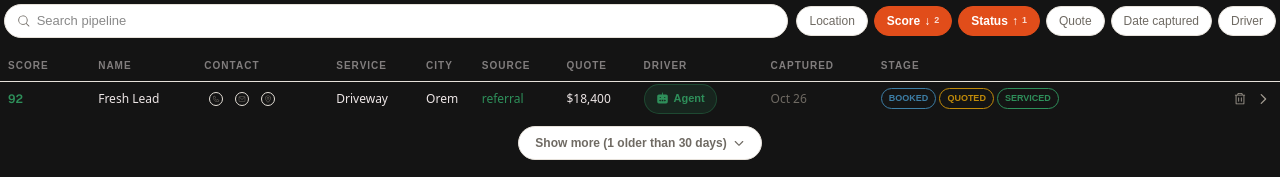
Test case: LeadsTable 30-day window › searches the whole pipeline, not just the visible window
This screenshot has width=1280, height=177.
In the search field labelled "Search pipeline": (406, 21) [37,11,775,30], type "Stale"
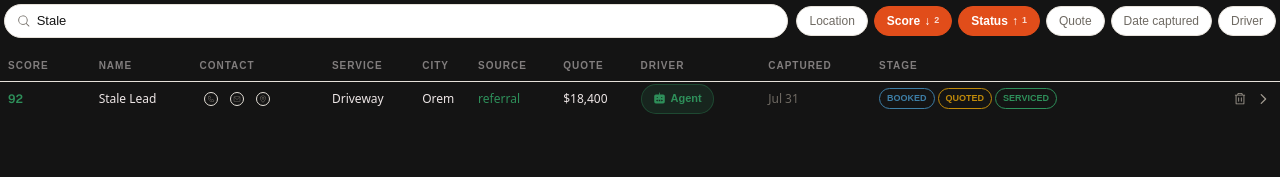
Now the row with test id "lead-row-stale" is shown, box [0,81,1279,116]
Now the button with test id "toggle-older-leads" is gone
